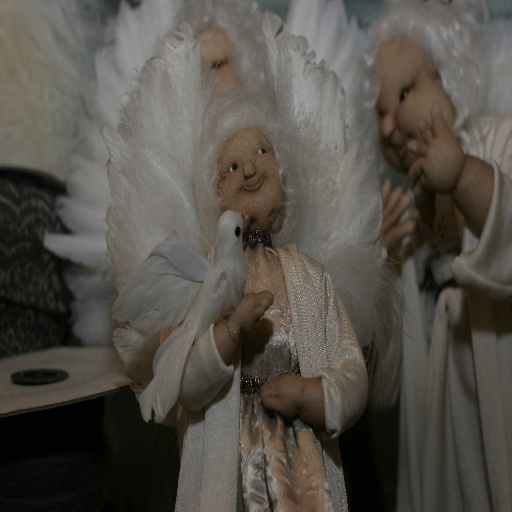hand: (405, 99, 463, 197), (372, 176, 415, 256), (222, 291, 270, 353), (256, 370, 304, 419)
